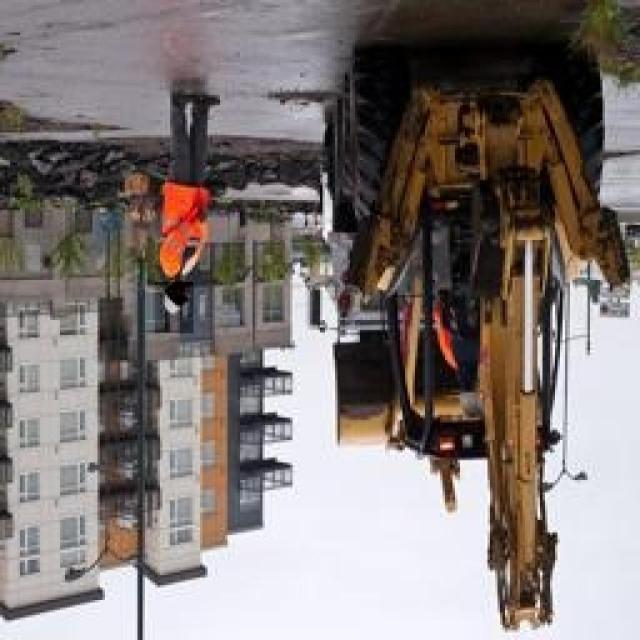Helmet: (137, 188, 221, 282), (155, 273, 193, 333)
